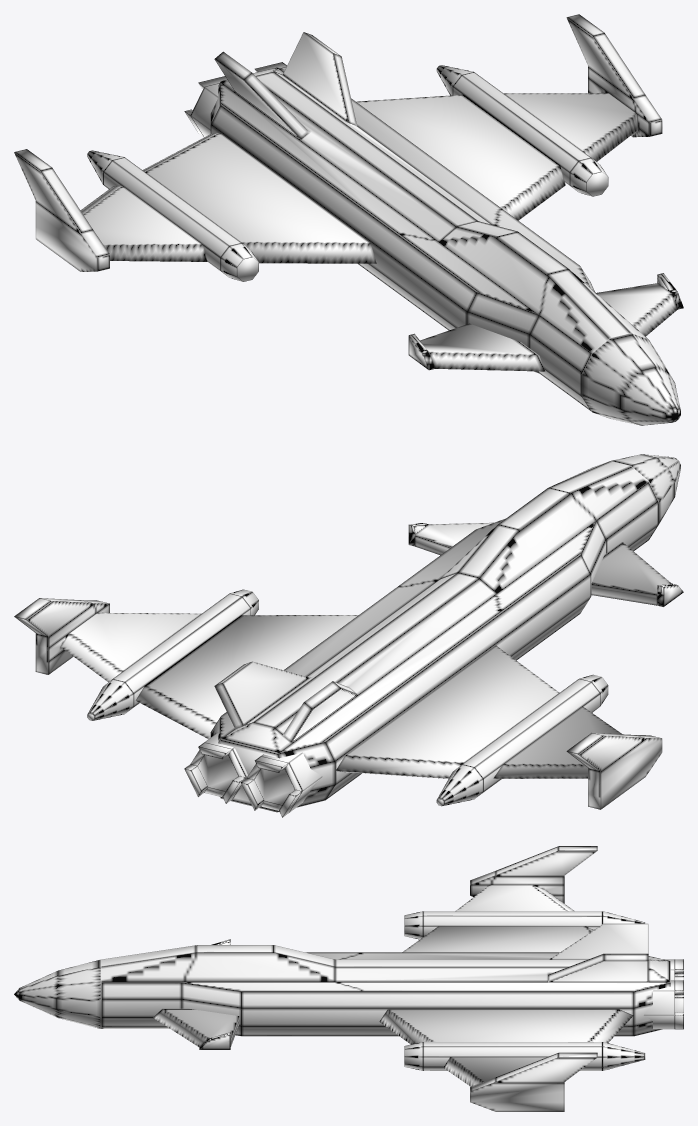
The model's file is helix.obj.
3 views of the same model, one above another, from view 1: azimuth 30°, elevation 25°; view 2: azimuth 150°, elevation 25°; view 3: azimuth 270°, elevation 25° (orthographic). The views are drawn at different scales.
Parts seen in each view (by area): view 1: fuselage, wingl, wingr, wingtipl, wingtipr, canardl, canardr; view 2: fuselage, wingl, wingr, wingtipr, wingtipl, canardl, canardr; view 3: fuselage, wingr, wingl, wingtipr, wingtipl, canardr.
Boxes of the visible parts, x1,y1,x2,y2 form: fuselage: (184,32,680,425); wingl: (87,133,376,281); wingr: (356,65,608,220); wingtipl: (14,149,207,271); wingtipr: (504,14,662,161); canardl: (408,323,545,371); canardr: (596,273,683,336); fuselage: (184,454,680,817); wingl: (336,645,608,806); wingr: (87,589,358,738); wingtipr: (14,598,201,682); wingtipl: (493,706,662,809); canardl: (591,542,683,606); canardr: (408,522,493,555); fuselage: (14,923,683,1036); wingr: (379,1009,645,1070); wingl: (402,911,645,952); wingtipr: (443,1052,597,1111); wingtipl: (455,846,597,911); canardr: (153,1008,239,1049).
Bounding box in the file's own units: 42.5 × 8.12 × 56.92.
